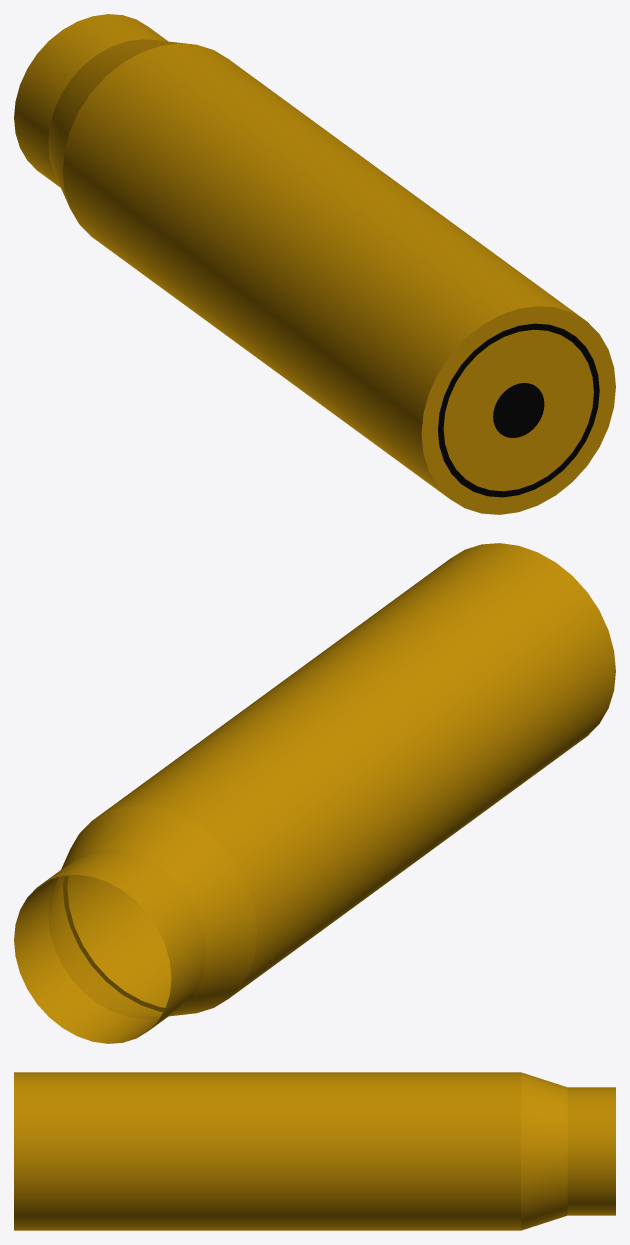
Rendered from casing awal.fbx.
3 views of the same model, one above another, from view 1: azimuth 30°, elevation 25°; view 2: azimuth 150°, elevation 25°; view 3: azimuth 270°, elevation 25° (orthographic). The views are drawn at different scales.
Parts seen in each view (by area): view 1: Cylinder; view 2: Cylinder; view 3: Cylinder.
Part boxes in pixels (<box>): Cylinder: <box>14,14,615,514</box>; Cylinder: <box>14,543,615,1043</box>; Cylinder: <box>14,1072,615,1230</box>.
Bounding box in the file's own units: 26.07 × 26.07 × 98.94.
